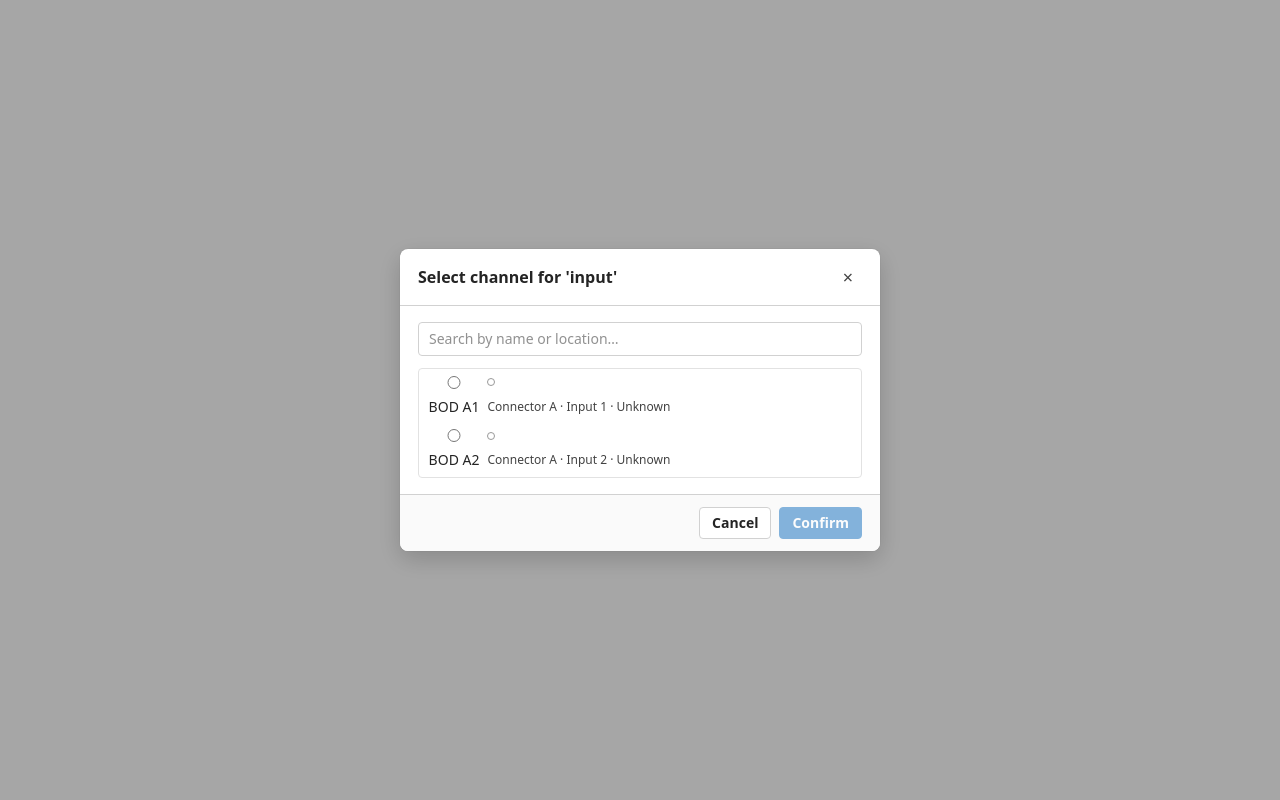
Scenario: SelectChannelPicker — Rebind retired (S6 D4) › Confirm enables as soon as any candidate is selected
Expected: the button "Confirm" is disabled, [779,507,862,539]
Click the radio button labelled "BOD A1 Connector A · Input 1 · Unknown".
click(454, 382)  # box [429,376,480,389]
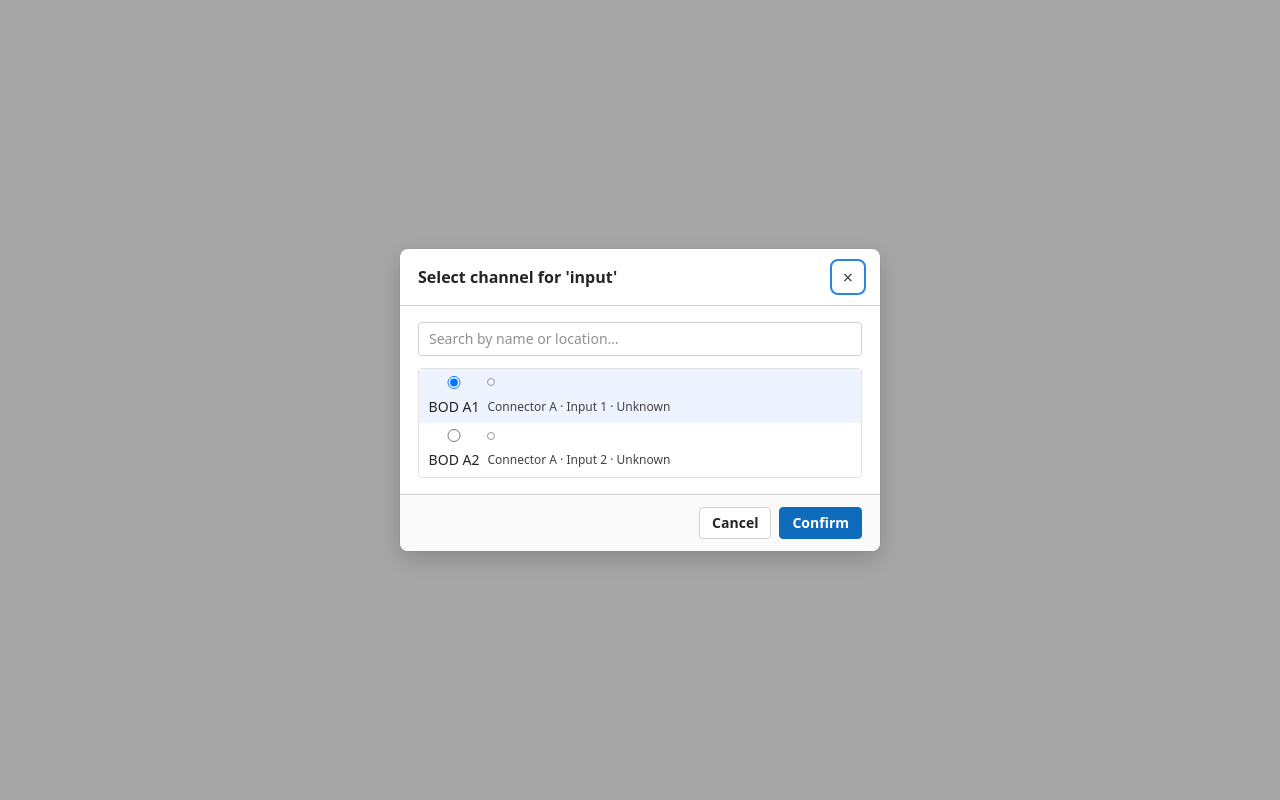
Expected: the button "Confirm" is enabled, [779,507,862,539]
